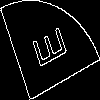E: (25, 24, 68, 74)
